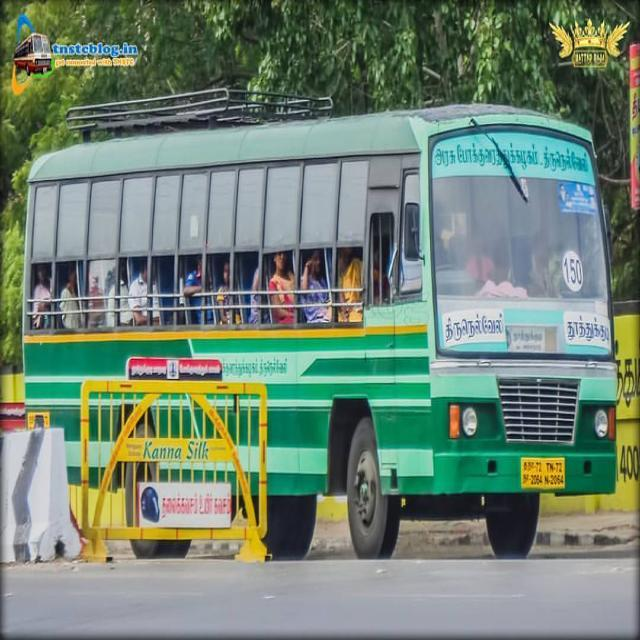Bus: (18, 82, 617, 560)
